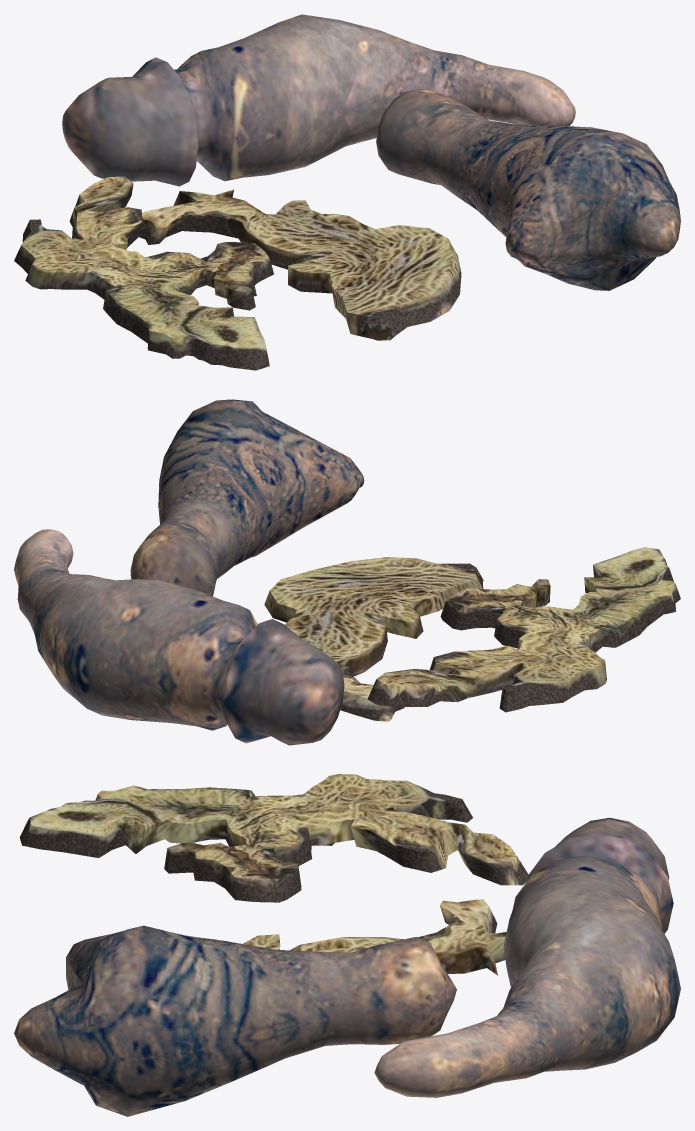
File: shengma.FBX
3 renders of one model, top to bottom at view 1: azimuth 30°, elevation 25°; view 2: azimuth 150°, elevation 25°; view 3: azimuth 270°, elevation 25°, orthographic. The views are drawn at different scales.
Parts seen in each view (by area): view 1: Cylinder002, Cylinder001, Line001, Line002; view 2: Cylinder002, Cylinder001, Line001, Line002; view 3: Cylinder001, Cylinder002, Line001, Line002.
Boxes of the visible parts, x1,y1,x2,y2 form: Cylinder002: [62, 14, 575, 186]; Cylinder001: [376, 89, 680, 290]; Line001: [14, 176, 273, 370]; Line002: [139, 189, 461, 340]; Cylinder002: [14, 529, 344, 745]; Cylinder001: [130, 399, 364, 596]; Line001: [367, 547, 680, 712]; Line002: [264, 557, 483, 721]; Cylinder001: [14, 925, 456, 1116]; Cylinder002: [374, 817, 680, 1097]; Line001: [19, 774, 528, 902]; Line002: [243, 899, 506, 975].
Size of the model in its own units: 51.01 by 13.42 by 45.51.
1 material, 1 textured.
